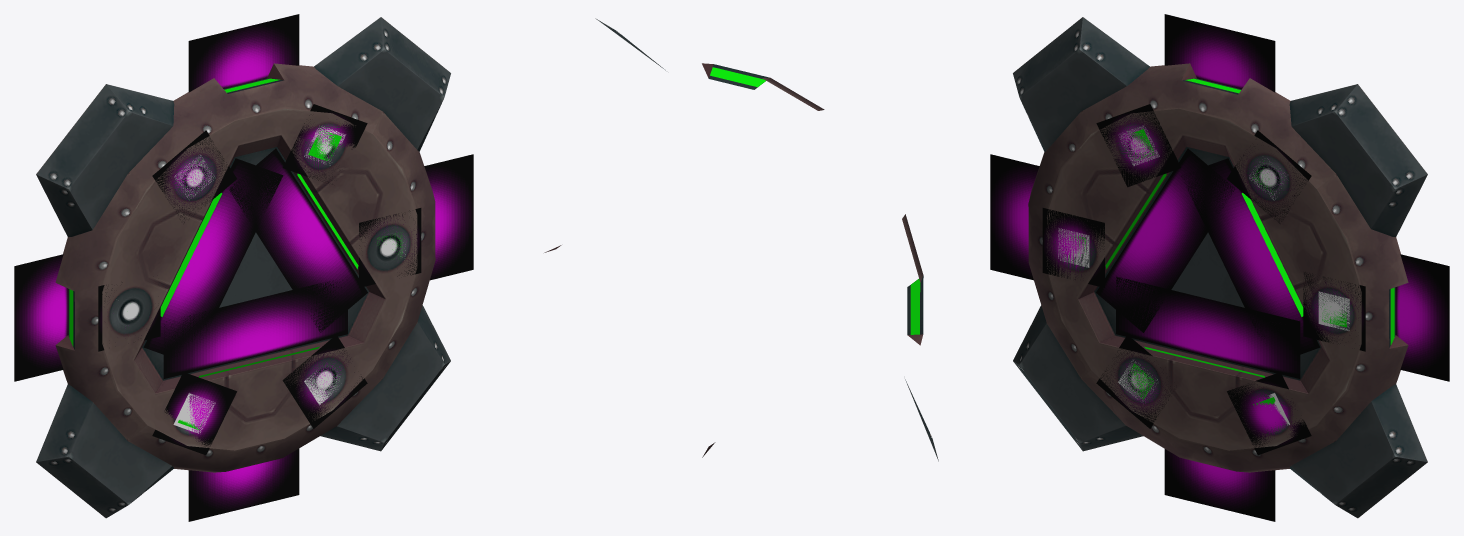
Rendered from model_controlPoint.glb.
3 views of the same model, side by side, from view 1: azimuth 30°, elevation 25°; view 2: azimuth 150°, elevation 25°; view 3: azimuth 330°, elevation 25° (orthographic).
Parts seen in each view (by area): view 1: control_point.model_controlPoint-MeshNodes["controlPoint"], control_point.model_controlPoint-MeshNodes["controlPoint_cen, control_point.model_recess-lighting-Mesh[0], control_point.model_recess-lighting-Mesh[1], control_point.part_circle-light-01-Mesh[0] (×6), control_point.model_circle-light-MeshNodes["plane_1unit"] (×2), control_point.model_recess-light-Mesh[0], control_point.part_circle-light-02-Mesh[0]; view 2: control_point.model_controlPoint-MeshNodes["controlPoint"], control_point.model_controlPoint-MeshNodes["floorLights"]; view 3: control_point.model_controlPoint-MeshNodes["controlPoint"], control_point.model_controlPoint-MeshNodes["controlPoint_cen, control_point.model_recess-lighting-Mesh[0], control_point.model_recess-lighting-Mesh[1], control_point.part_circle-light-01-Mesh[0] (×6), control_point.model_circle-light-MeshNodes["plane_1unit"] (×3), control_point.model_recess-light-Mesh[0].
Boxes of the visible parts, x1,y1,x2,y2 form: control_point.model_controlPoint-MeshNodes["controlPoint"]: (36,17,450,518); control_point.model_controlPoint-MeshNodes["controlPoint_cen: (102,108,417,450); control_point.model_recess-lighting-Mesh[0]: (143,148,367,378); control_point.model_recess-lighting-Mesh[1]: (14,14,473,521); control_point.part_circle-light-01-Mesh[0] (×6): (98,104,421,455); control_point.model_circle-light-MeshNodes["plane_1unit"] (×2): (173,371,339,433); control_point.model_recess-light-Mesh[0]: (160,193,222,316); control_point.part_circle-light-02-Mesh[0]: (308,129,341,161); control_point.model_controlPoint-MeshNodes["controlPoint"]: (544,18,938,461); control_point.model_controlPoint-MeshNodes["floorLights"]: (710,67,920,334); control_point.model_controlPoint-MeshNodes["controlPoint"]: (1013,17,1427,518); control_point.model_controlPoint-MeshNodes["controlPoint_cen: (1046,108,1361,450); control_point.model_recess-lighting-Mesh[0]: (1096,148,1320,378); control_point.model_recess-lighting-Mesh[1]: (990,14,1449,521); control_point.part_circle-light-01-Mesh[0] (×6): (1042,104,1365,455); control_point.model_circle-light-MeshNodes["plane_1unit"] (×3): (1058,125,1349,330); control_point.model_recess-light-Mesh[0]: (1241,193,1303,316).
Bounding box in the file's own units: 6.49 × 6.49 × 0.4.
Materials: 5 (4 with a texture image).
